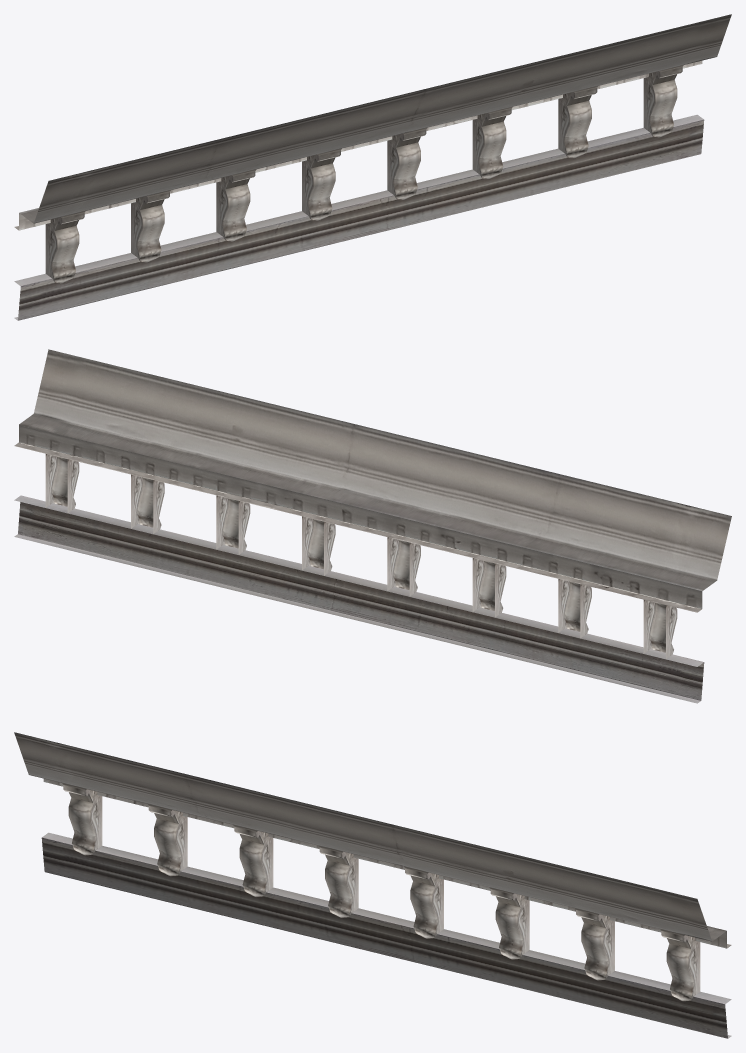
Rendered from WallRoofline2A.fbx.
3 views of the same model, one above another, from view 1: azimuth 30°, elevation 25°; view 2: azimuth 150°, elevation 25°; view 3: azimuth 330°, elevation 25° (orthographic).
Visible parts, largest first — view 1: WallRoofline2A; view 2: WallRoofline2A; view 3: WallRoofline2A.
Boxes of the visible parts, left/top/right/bottom form: WallRoofline2A: left=14, top=14, right=731, bottom=320; WallRoofline2A: left=14, top=349, right=731, bottom=703; WallRoofline2A: left=14, top=732, right=731, bottom=1038.
Size of the model in its own units: 400 by 90.8 by 35.
